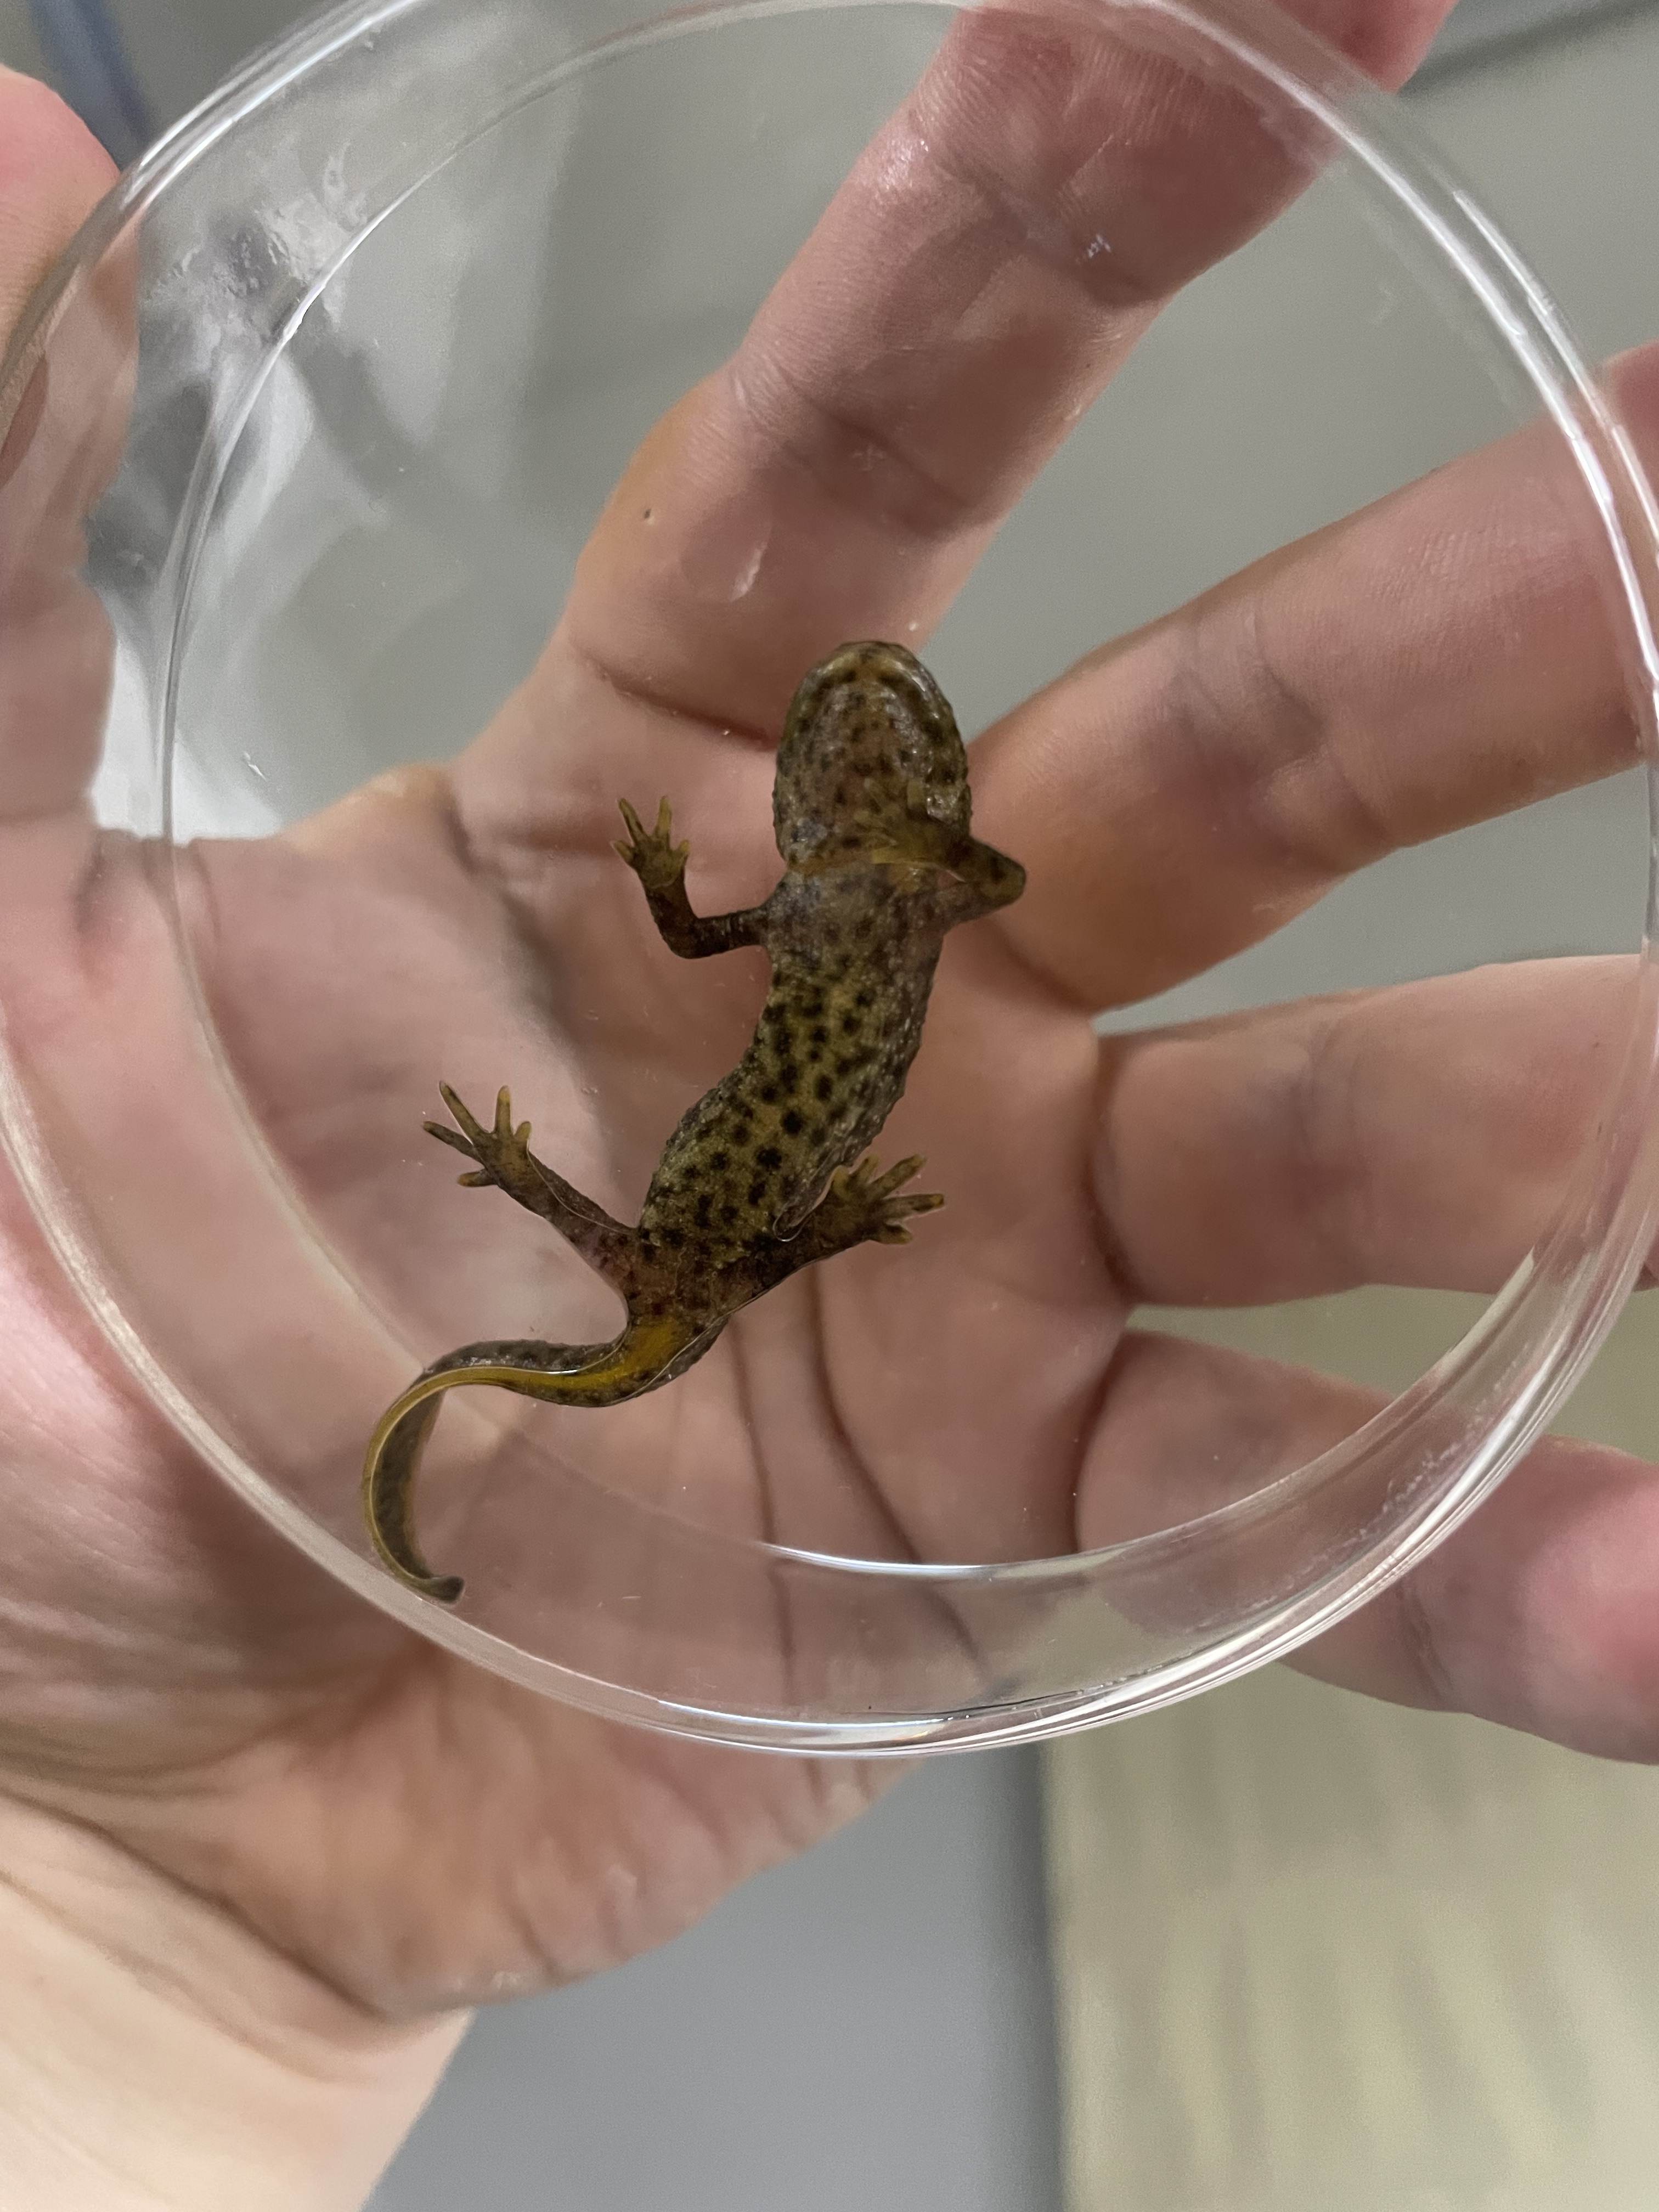newt_ribbed: (635, 927, 947, 1229)
